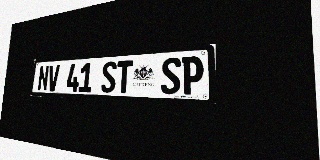1: (78, 63, 93, 92)
4: (66, 63, 80, 92)
N: (37, 65, 49, 91)
P: (181, 56, 204, 95)
S: (160, 57, 181, 94), (101, 61, 117, 93)
T: (116, 60, 133, 93)
V: (47, 65, 60, 91)
